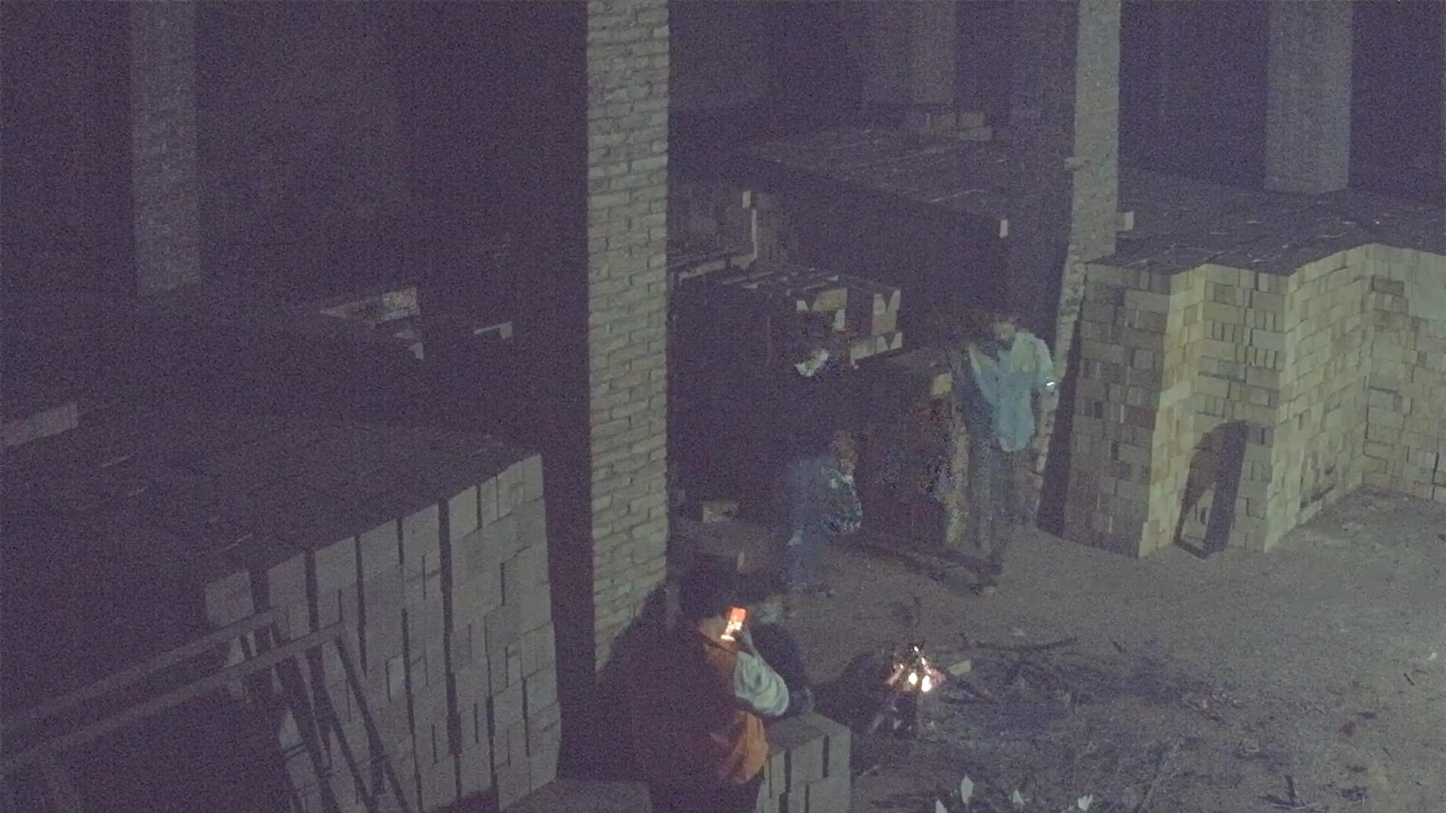fire: (889, 642, 944, 694)
